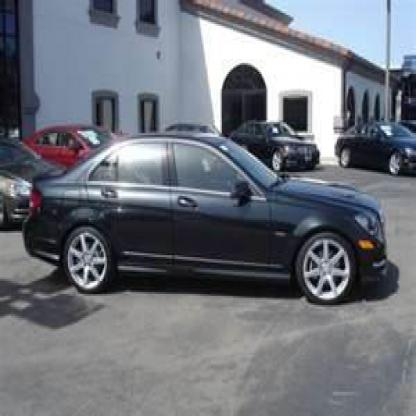car: (33, 130, 394, 331), (349, 112, 416, 175), (239, 115, 321, 166)
